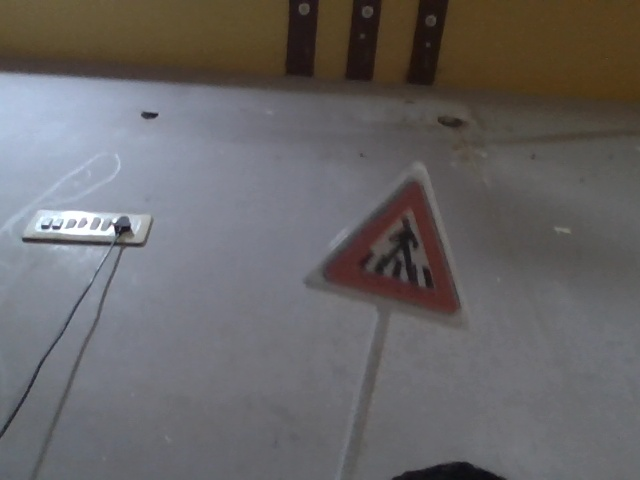crossing: (311, 126, 464, 314)
